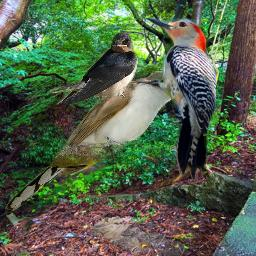Cuckoo: (3, 69, 204, 214)
Swallow: (48, 32, 138, 104)
Woodpecker: (133, 18, 216, 180)
